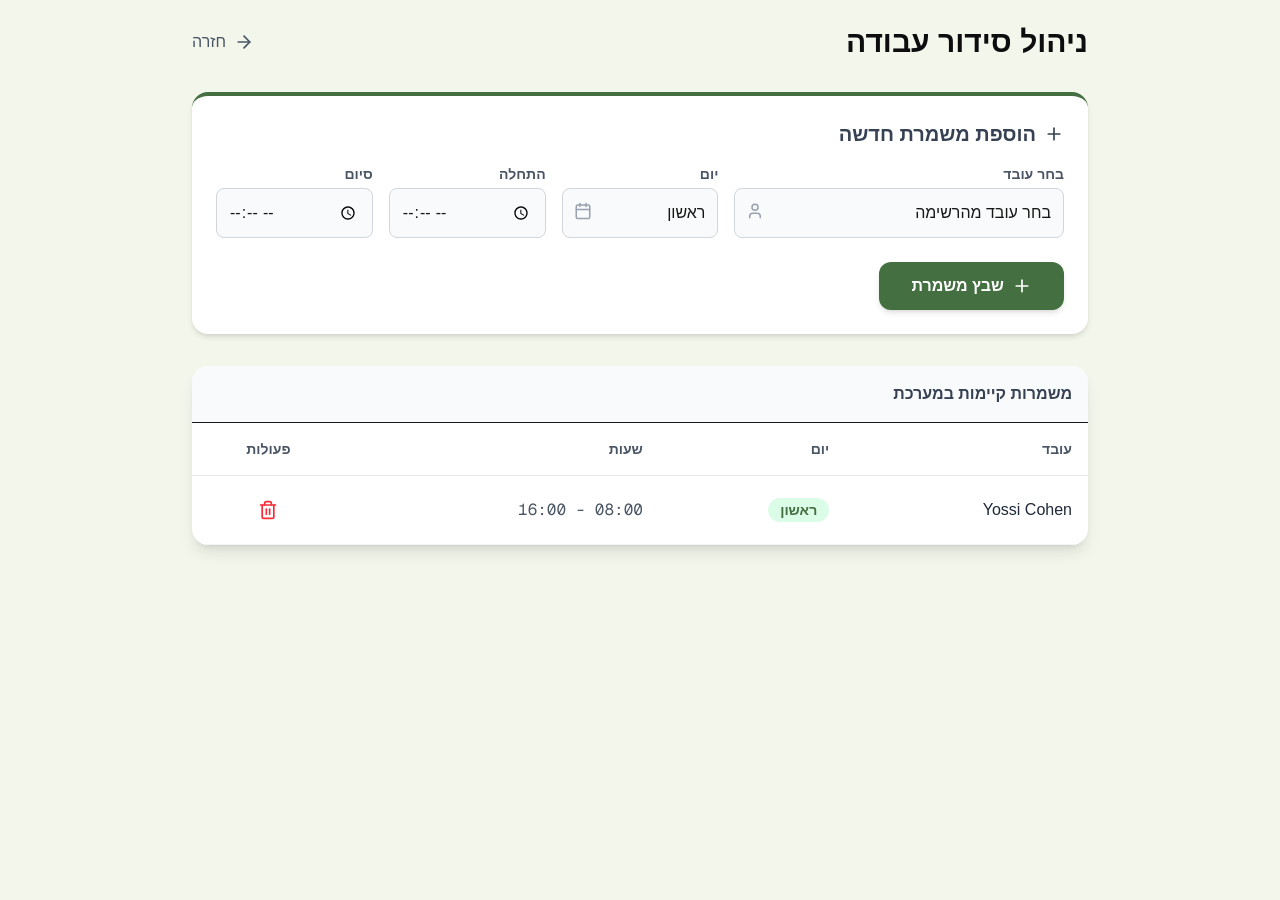
Test: AdminSchedulePage › successfully adds a new shift
Select "Dana Levy - 0502222222" in the dropdown below "בחר עובד" at (899,213), box [734,188,1064,238]
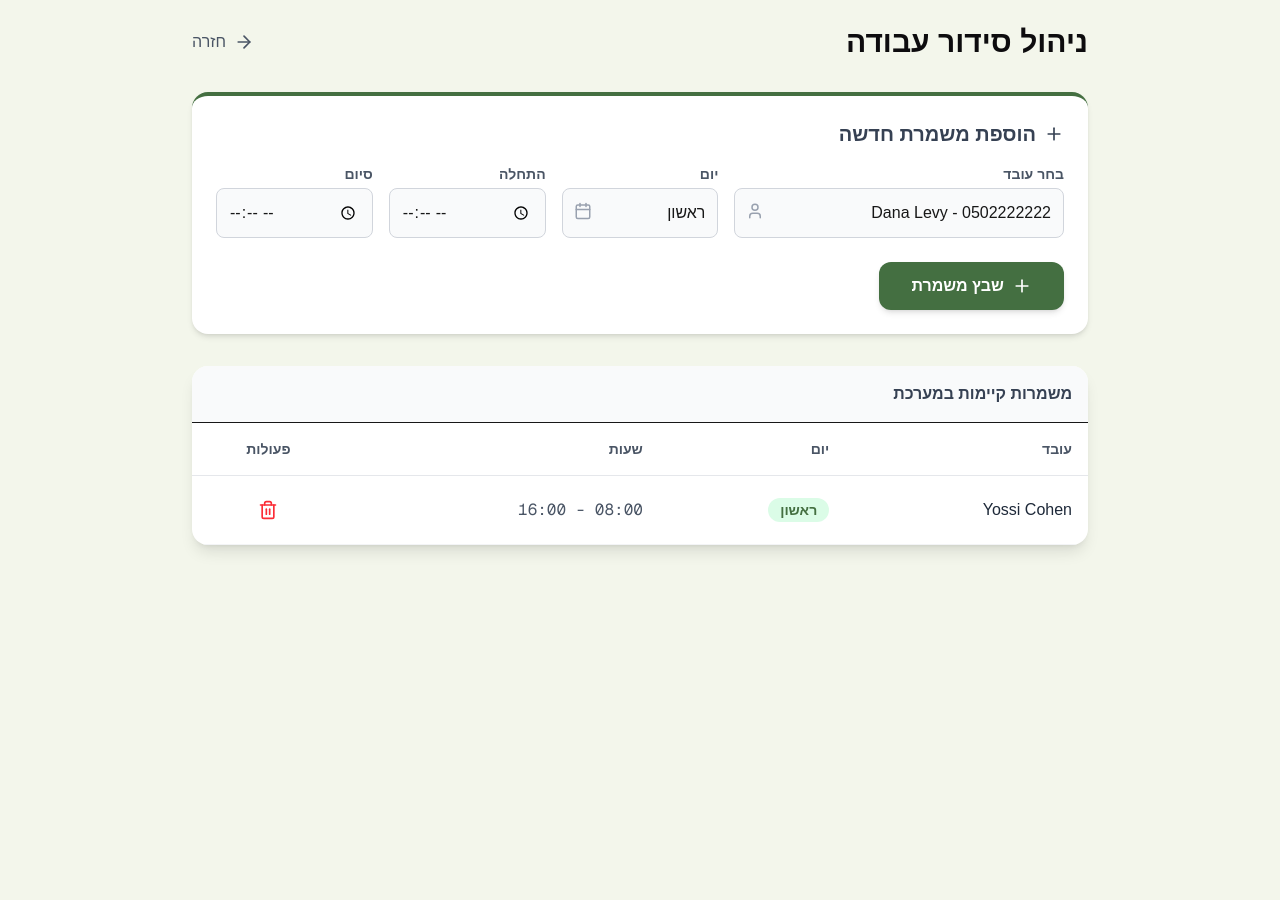
Select "שני" in the 1st dropdown at (640,213), box [562,188,718,238]
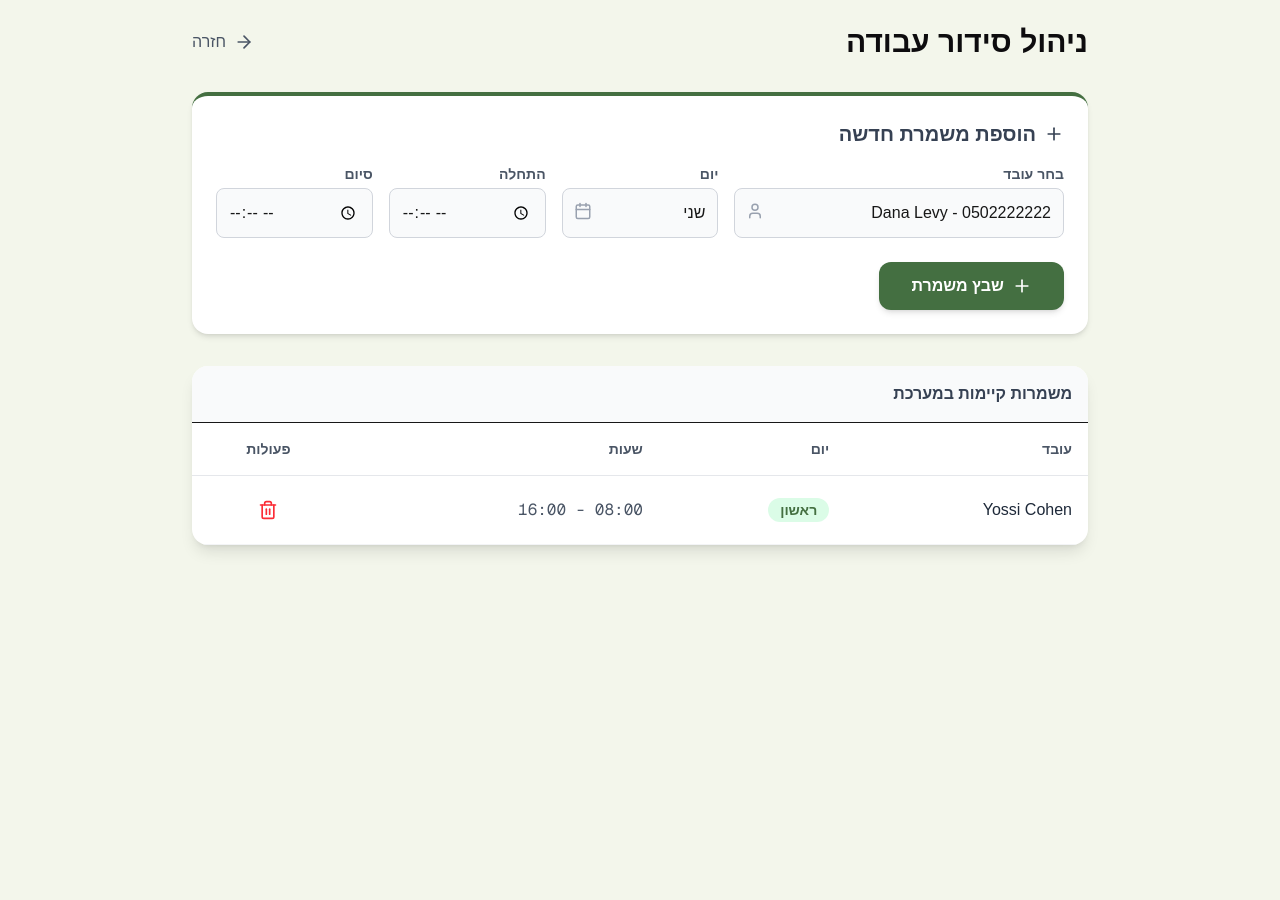
Type "09:00" into the time field below "התחלה".
click(467, 213); type("09:00")  # box [389,188,546,238]
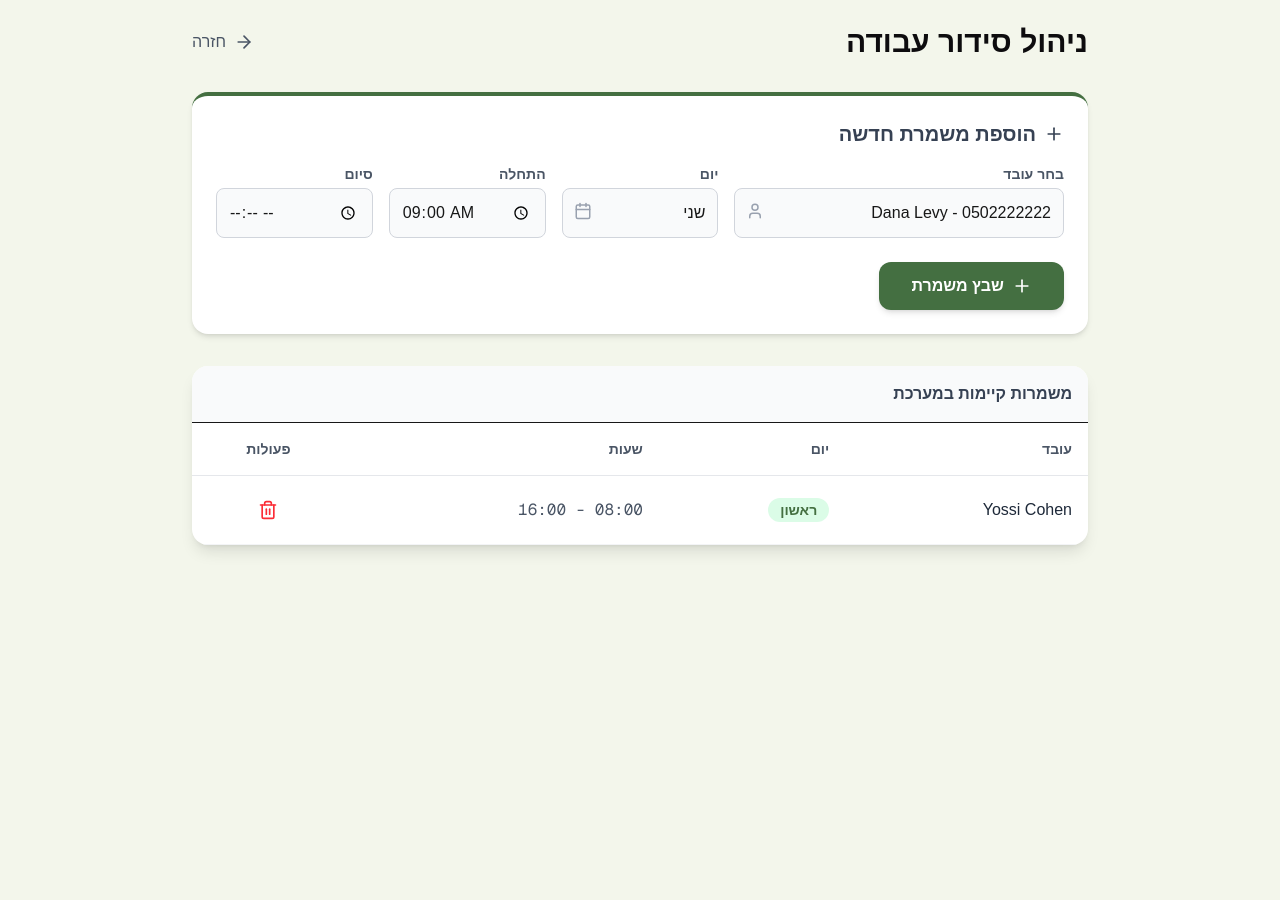
Type "17:00" into the time field below "סיום".
click(294, 213); type("17:00")  # box [216,188,373,238]
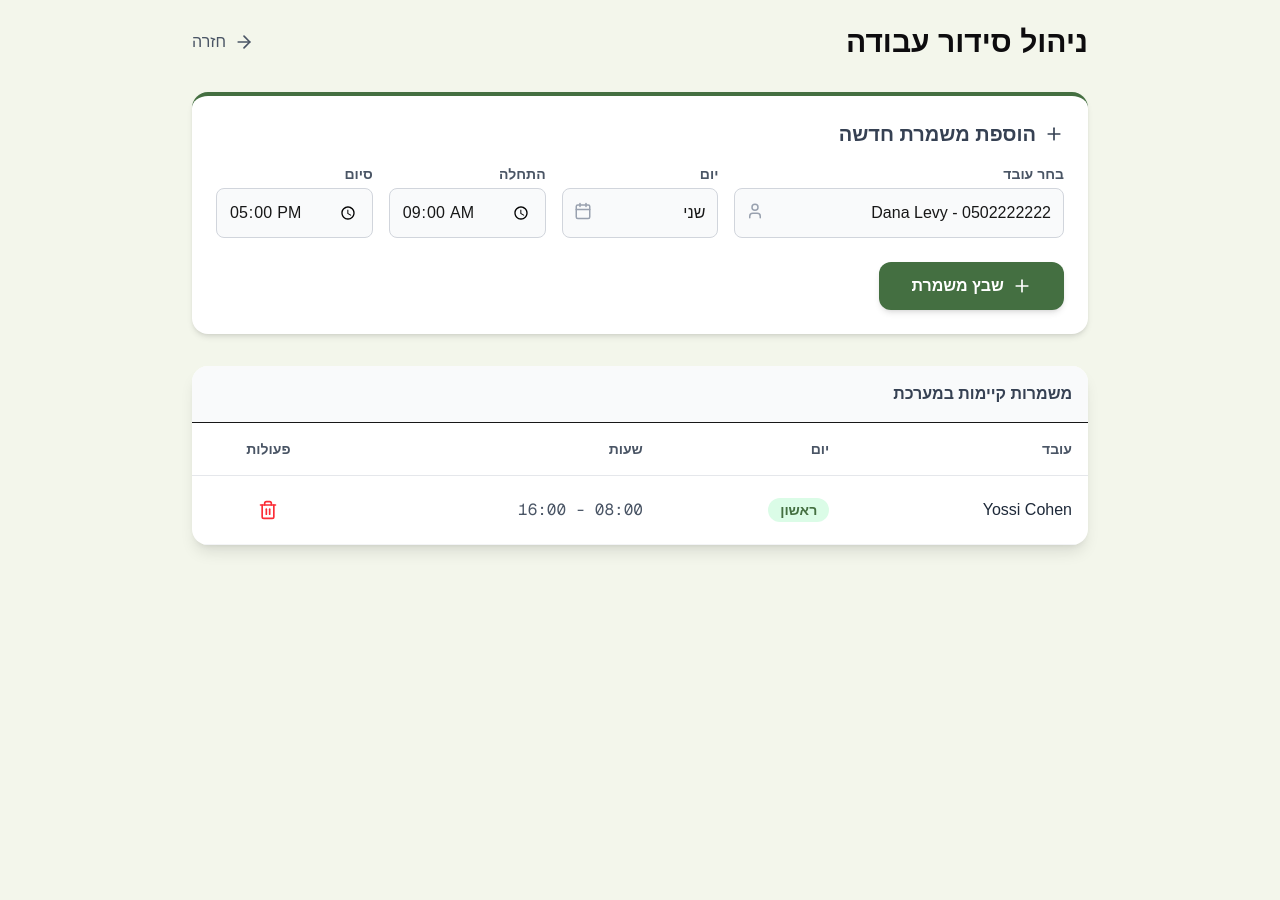
Click the button "שבץ משמרת".
click(972, 286)  # box [879,262,1064,310]
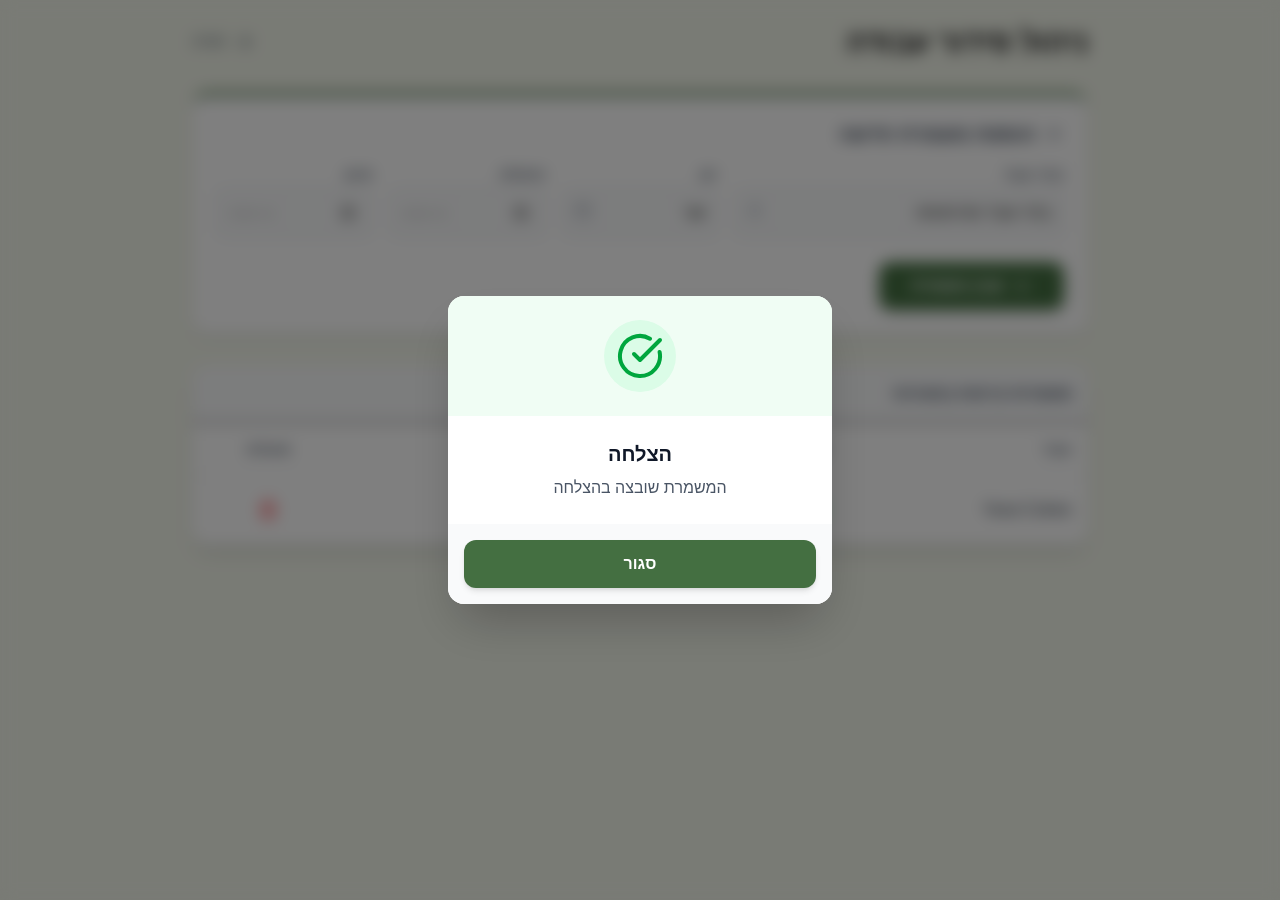
Check: the text "המשמרת שובצה בהצלחה" is shown, box [553,479,727,496]
